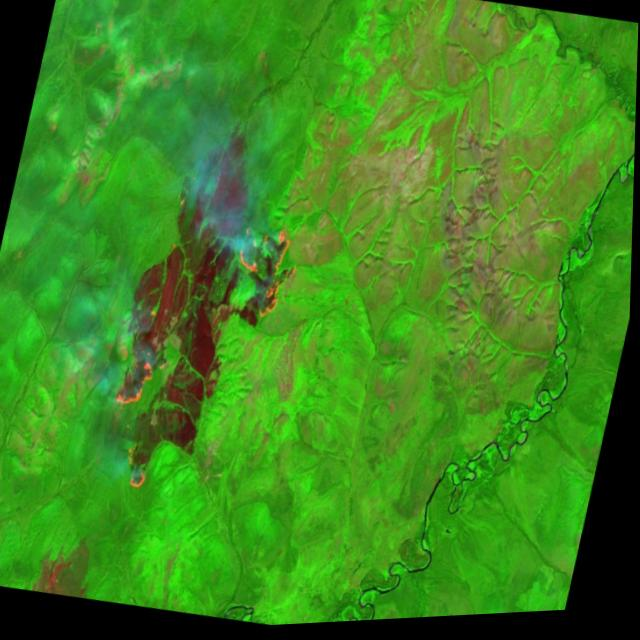fire: (224, 219, 309, 338), (115, 334, 168, 414), (113, 444, 167, 505)
